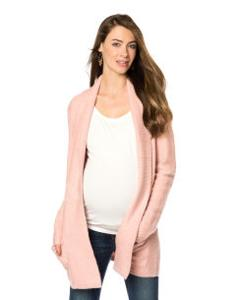S_cardigan sweater: (44, 68, 172, 284)
